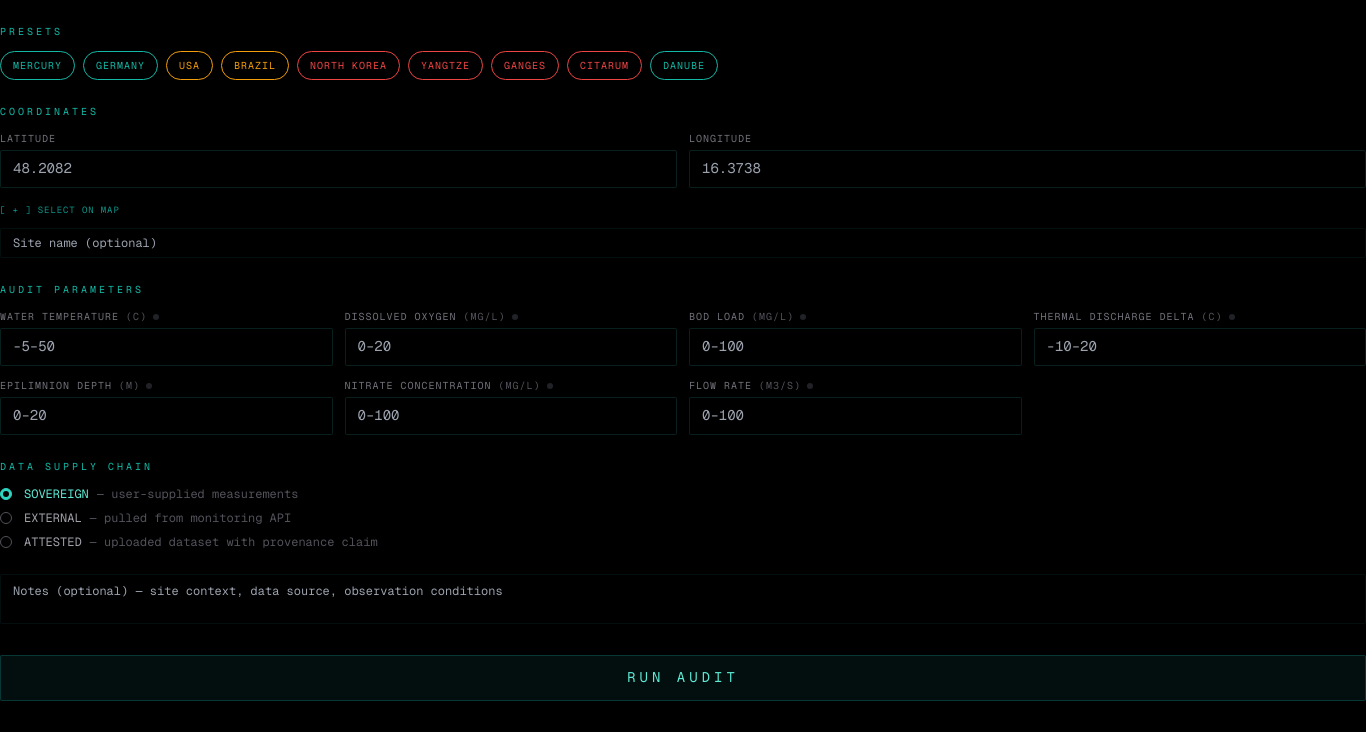
Scenario: SubmissionForm coordinates at submit › never submits an unwrapped longitude
This screenshot has width=1366, height=732.
Click the button "GERMANY".
click(120, 66)  # box top-left (83, 51), bottom-right (158, 80)
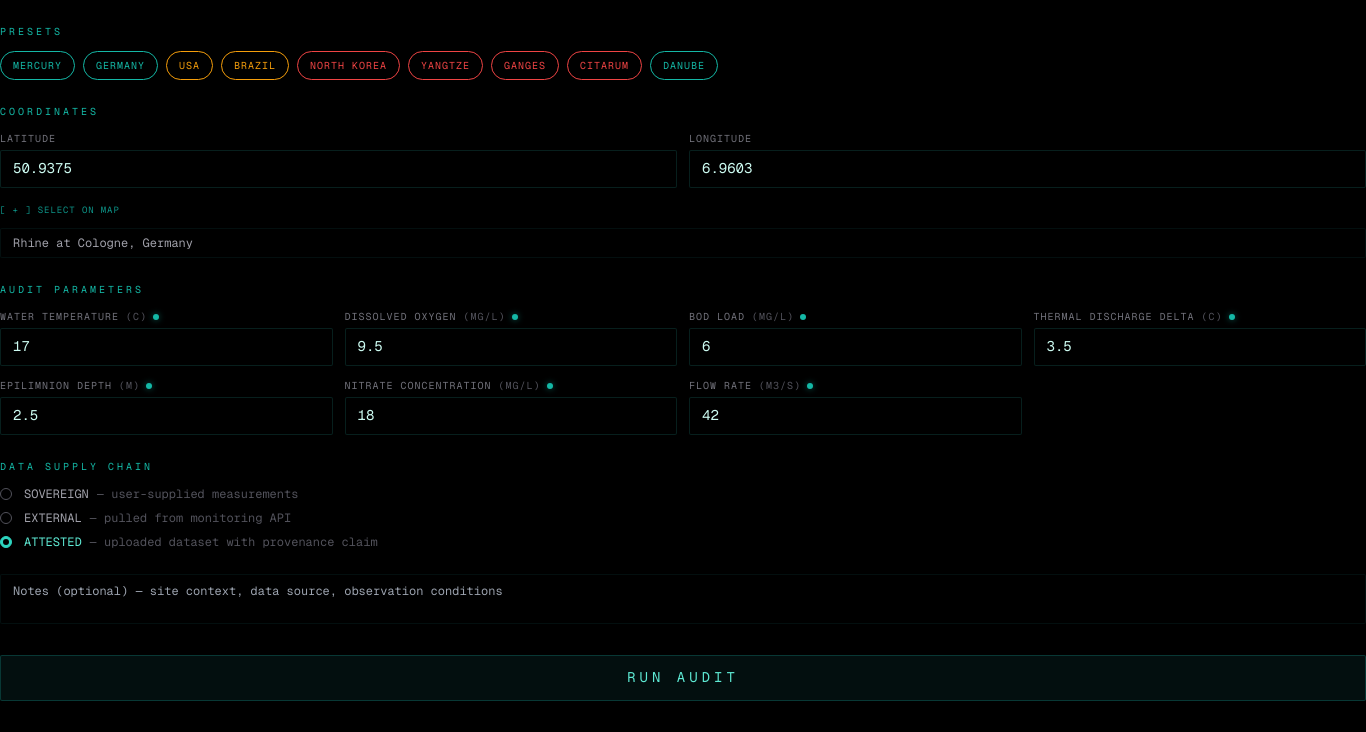
Replace the text in the number field below "Latitude" with "52.52" at (338, 169), box top-left (0, 150), bottom-right (677, 188)
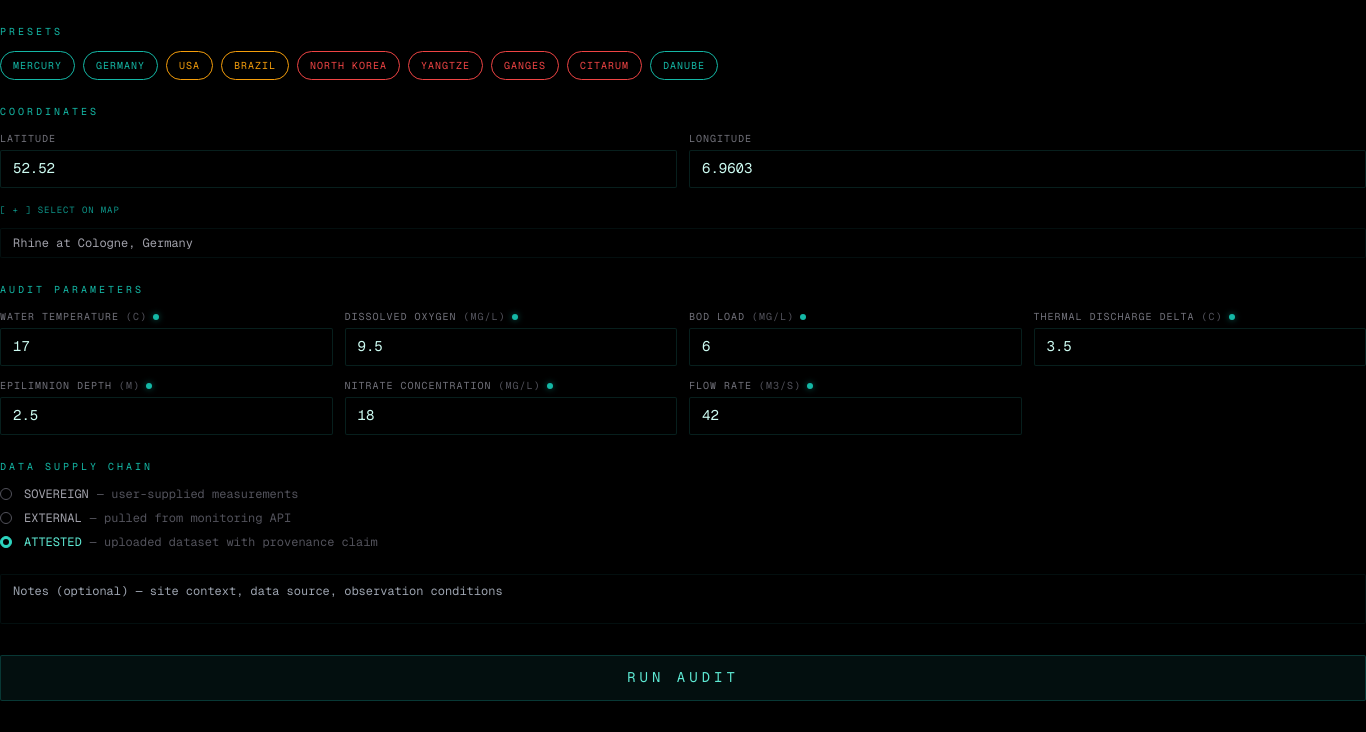
Replace the text in the number field below "Longitude" with "373.4" at (1028, 169), box top-left (689, 150), bottom-right (1365, 188)
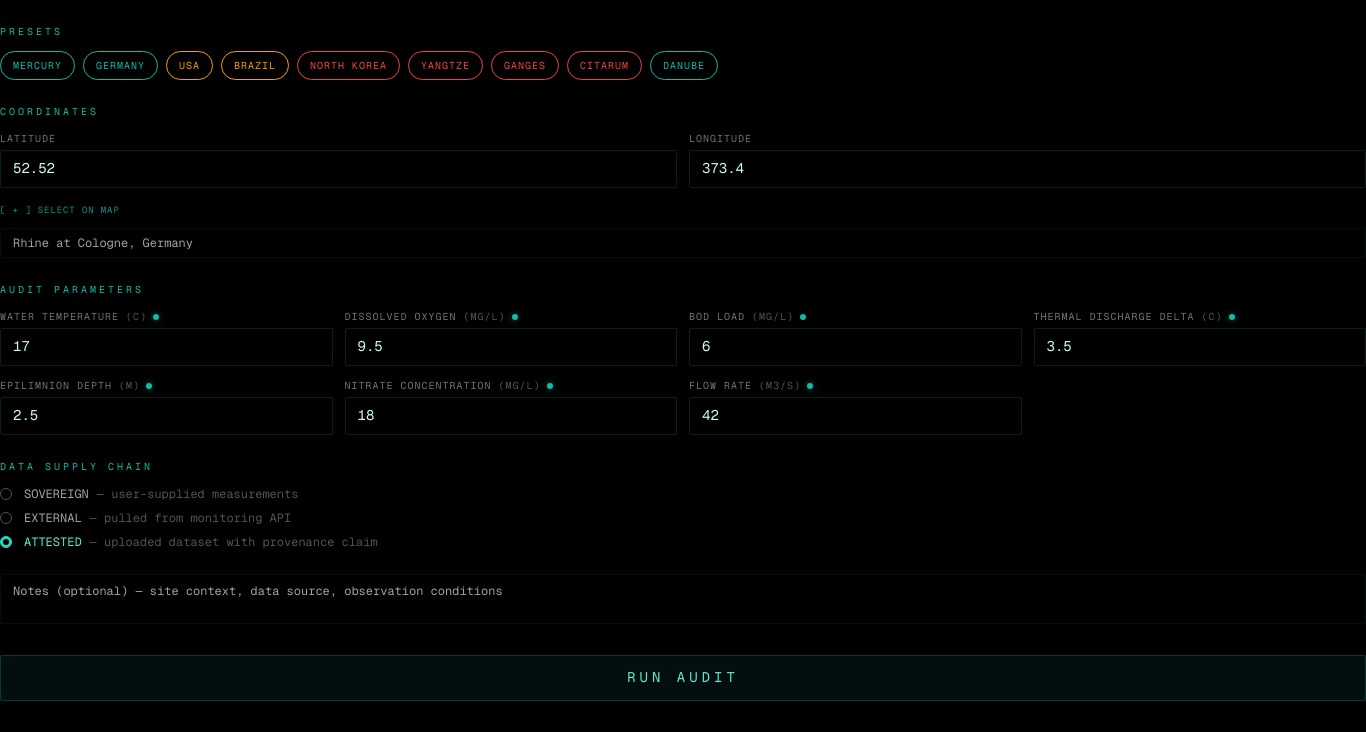
Click the button "RUN AUDIT".
click(683, 678)  # box top-left (0, 655), bottom-right (1365, 701)
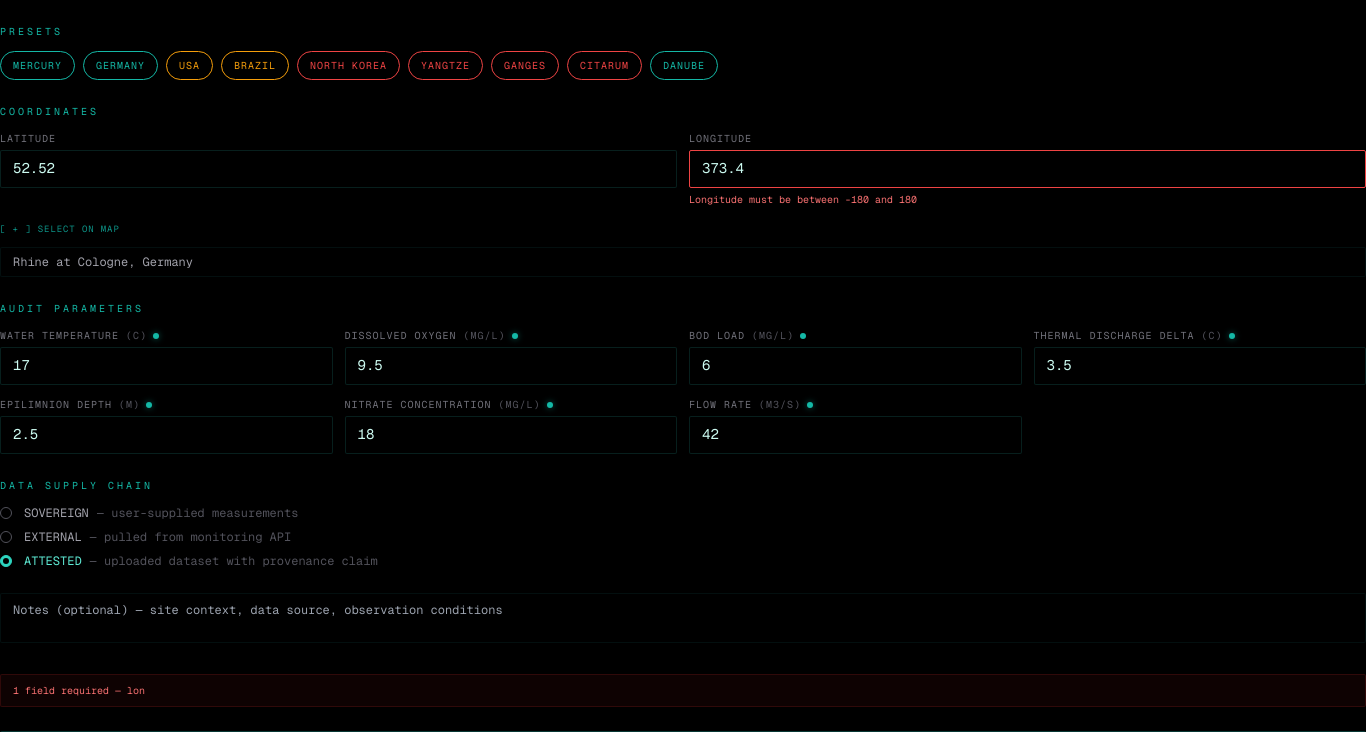
Expected: the text "Longitude must be between -180 and 180" is shown, top-left (689, 193), bottom-right (917, 206)
